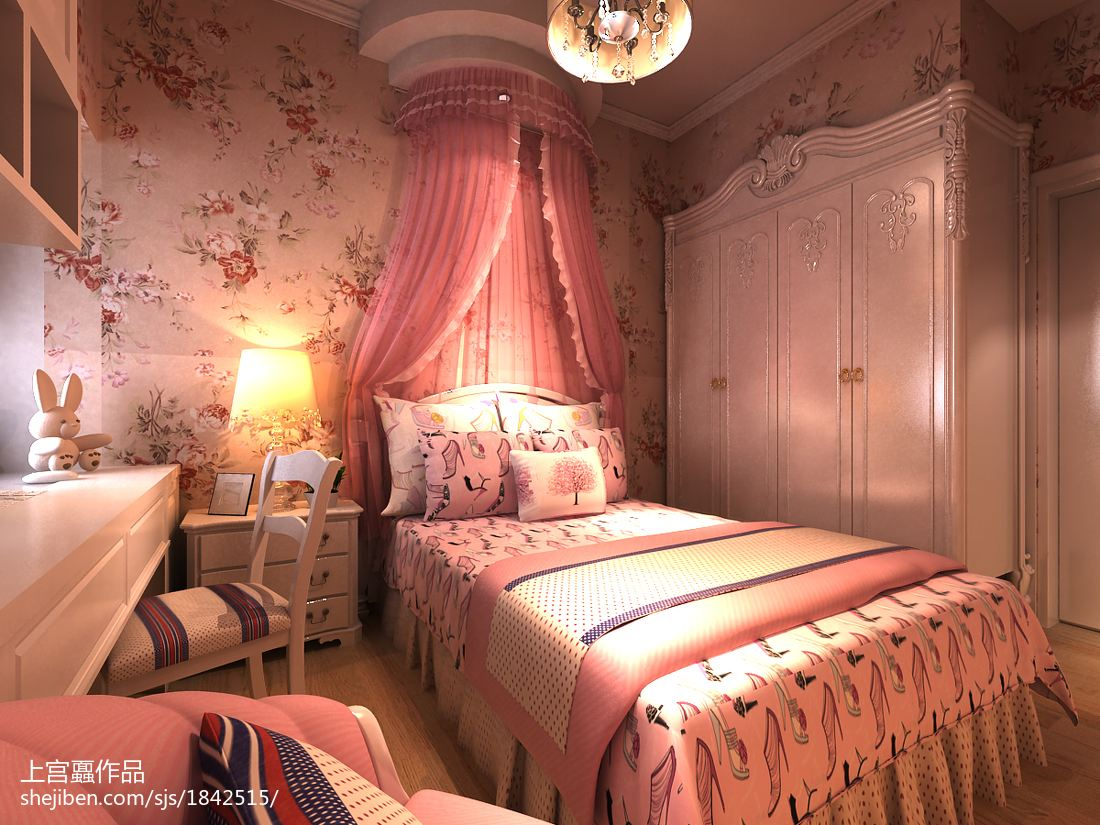床: (369, 502, 1063, 823)
枕头: (383, 384, 621, 519), (198, 717, 410, 822)
灯: (218, 333, 323, 508), (549, 0, 705, 90)
